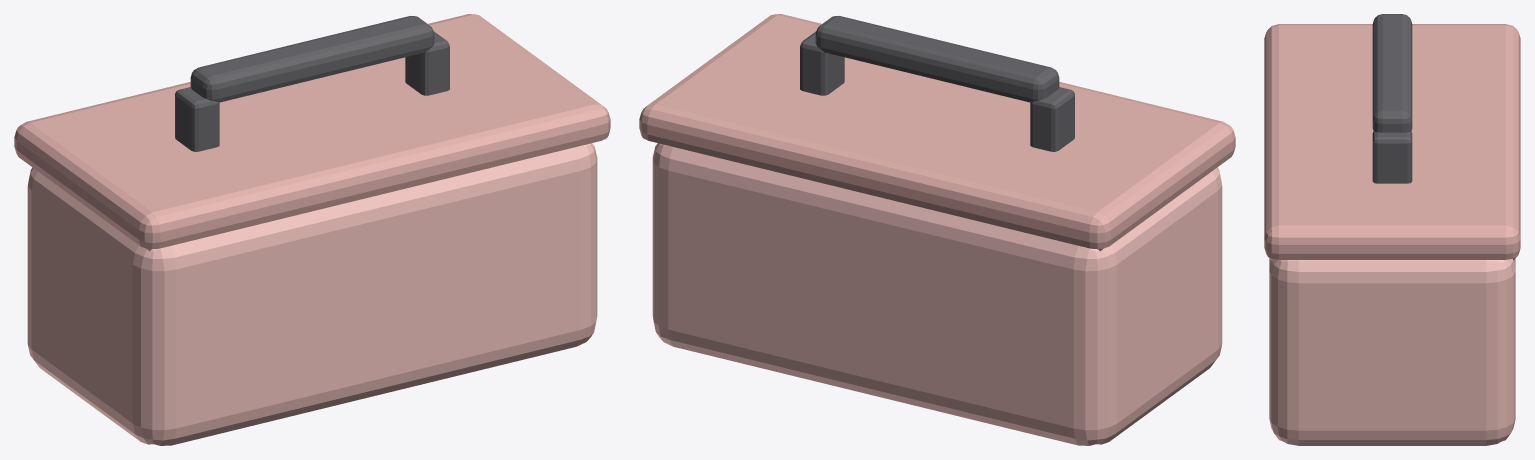
The model's file is toolbox.glb.
The picture shows the model from 3 angles, left to right: view 1: azimuth 30°, elevation 25°; view 2: azimuth 150°, elevation 25°; view 3: azimuth 270°, elevation 25°; orthographic projection. The views are drawn at different scales.
Parts seen in each view (by area): view 1: toolbox_coral, toolbox_coral_dark, toolbox_black; view 2: toolbox_coral, toolbox_coral_dark, toolbox_black; view 3: toolbox_coral_dark, toolbox_coral, toolbox_black.
Boxes of the visible parts, bbox=[...] form: toolbox_coral: bbox=[27, 143, 597, 445]; toolbox_coral_dark: bbox=[14, 14, 610, 251]; toolbox_black: bbox=[175, 16, 449, 151]; toolbox_coral: bbox=[652, 143, 1222, 445]; toolbox_coral_dark: bbox=[639, 14, 1235, 251]; toolbox_black: bbox=[800, 16, 1074, 151]; toolbox_coral_dark: bbox=[1264, 24, 1520, 260]; toolbox_coral: bbox=[1269, 258, 1515, 445]; toolbox_black: bbox=[1372, 14, 1412, 183].
Size of the model in its own units: 1.02 by 0.6324 by 0.52.
